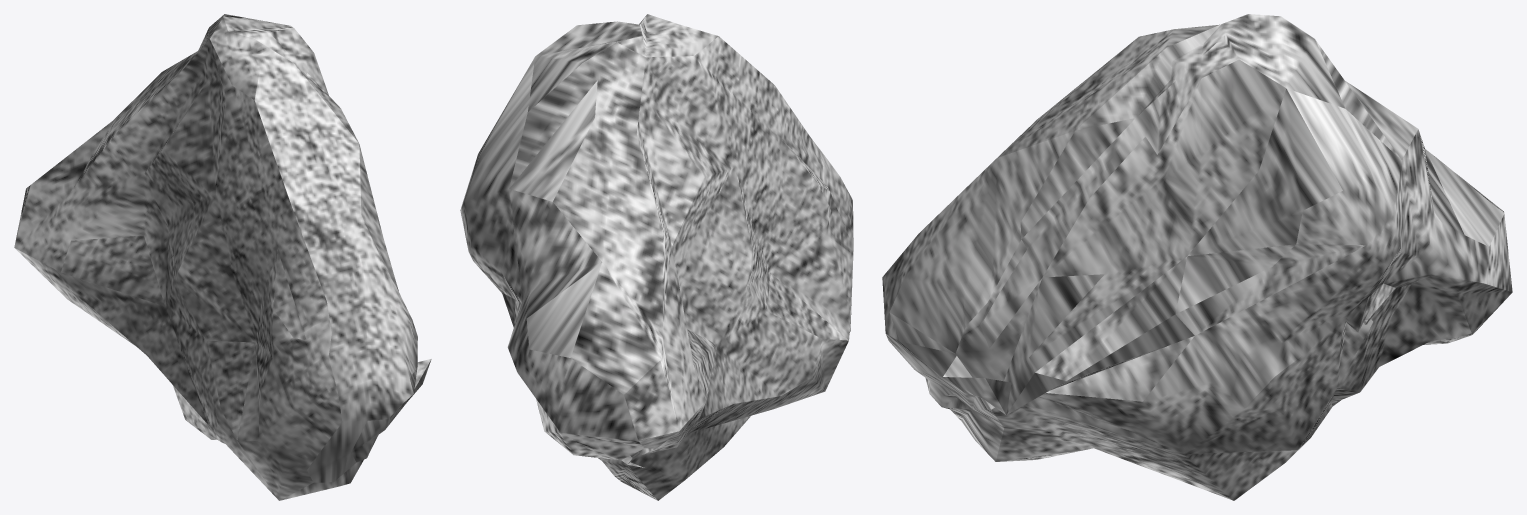
File: Rock_Asset_05.fbx
3 views of the same model, side by side, from view 1: azimuth 30°, elevation 25°; view 2: azimuth 150°, elevation 25°; view 3: azimuth 270°, elevation 25° (orthographic). The views are drawn at different scales.
Visible parts, largest first — view 1: Rock_Asset; view 2: Rock_Asset; view 3: Rock_Asset.
Boxes of the visible parts, x1,y1,x2,y2 form: Rock_Asset: [14, 14, 431, 500]; Rock_Asset: [460, 14, 853, 500]; Rock_Asset: [882, 14, 1512, 500].
Bounding box in the file's own units: 1.07 × 1.79 × 2.14.
1 material, 1 textured.
